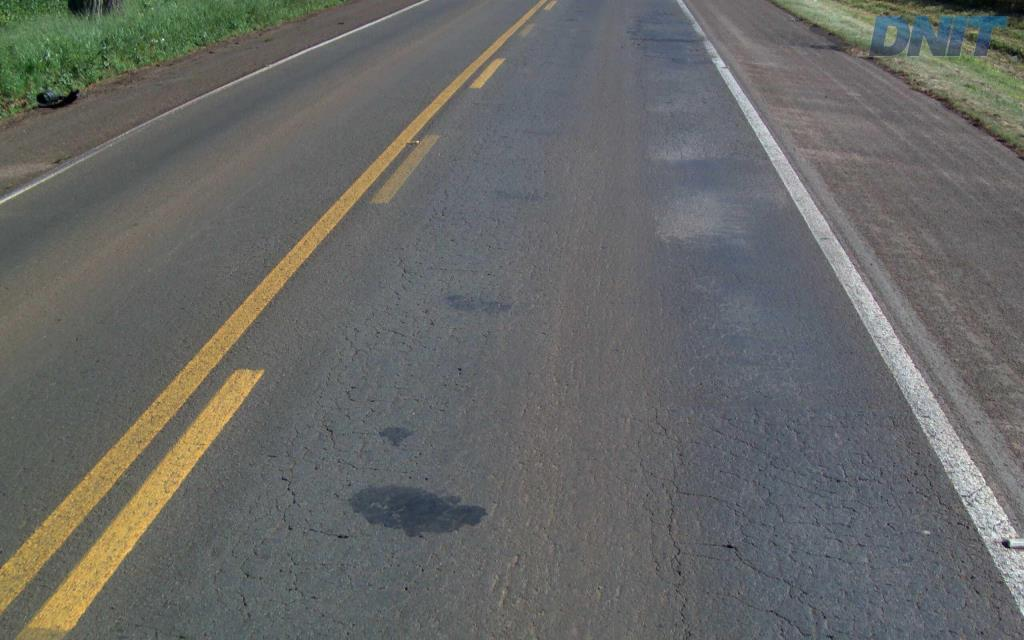crack: (665, 489, 687, 597)
